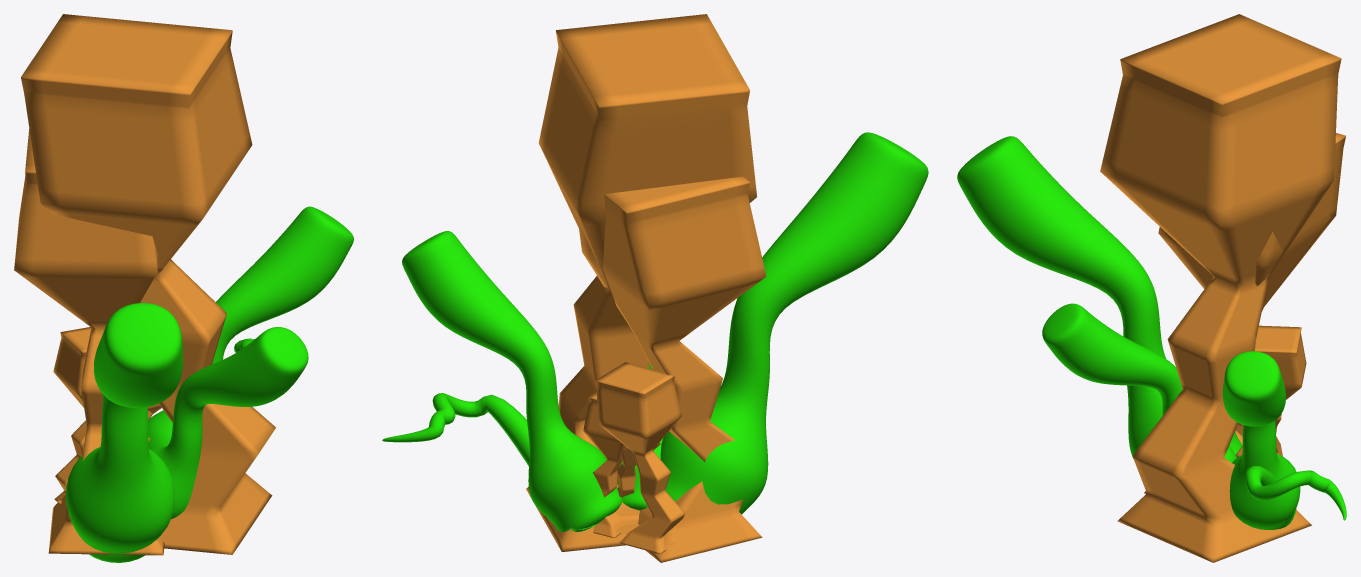
The model's file is Floor_Platforms_002.fbx.
The picture shows the model from 3 angles, left to right: view 1: azimuth 30°, elevation 25°; view 2: azimuth 150°, elevation 25°; view 3: azimuth 270°, elevation 25°; orthographic projection. The views are drawn at different scales.
Visible parts, largest first — view 1: Floor.Platforms.002|cliff.001|Dupli|2, Floor.Platforms.002|cliff|Dupli|1, Floor.Platforms.002|cliff.001|Dupli|3, Floor.Platforms.002|cliff|Dupli|7, Floor.Platforms.002|cliff|Dupli|4, Floor.Platforms.002|cliff.001|Dupli|9; view 2: Floor.Platforms.002|cliff.001|Dupli|2, Floor.Platforms.002|cliff.001|Dupli|3, Floor.Platforms.002|cliff|Dupli|1, Floor.Platforms.002|cliff|Dupli|7, Floor.Platforms.002|cliff.001|Dupli|9, Floor.Platforms.002|BezierCurve.Trunk.002|Dupli|10, Floor.Platforms.002|cliff.002|Dupli|8, Floor.Platforms.002|cliff.002|Dupli|5; view 3: Floor.Platforms.002|cliff.001|Dupli|2, Floor.Platforms.002|cliff|Dupli|1, Floor.Platforms.002|cliff|Dupli|7, Floor.Platforms.002|cliff|Dupli|4, Floor.Platforms.002|cliff.001|Dupli|3, Floor.Platforms.002|cliff.001|Dupli|9, Floor.Platforms.002|BezierCurve.Trunk.002|Dupli|10.
Boxes of the visible parts, x1=… form: Floor.Platforms.002|cliff.001|Dupli|2: x1=21, y1=14, x2=275, y2=554; Floor.Platforms.002|cliff|Dupli|1: x1=66, y1=303, x2=182, y2=562; Floor.Platforms.002|cliff.001|Dupli|3: x1=14, y1=129, x2=164, y2=555; Floor.Platforms.002|cliff|Dupli|7: x1=148, y1=206, x2=353, y2=449; Floor.Platforms.002|cliff|Dupli|4: x1=151, y1=327, x2=308, y2=518; Floor.Platforms.002|cliff.001|Dupli|9: x1=53, y1=327, x2=91, y2=502; Floor.Platforms.002|cliff.001|Dupli|2: x1=526, y1=14, x2=756, y2=551; Floor.Platforms.002|cliff.001|Dupli|3: x1=578, y1=176, x2=766, y2=562; Floor.Platforms.002|cliff|Dupli|1: x1=660, y1=132, x2=928, y2=514; Floor.Platforms.002|cliff|Dupli|7: x1=402, y1=231, x2=622, y2=531; Floor.Platforms.002|cliff.001|Dupli|9: x1=595, y1=362, x2=685, y2=553; Floor.Platforms.002|BezierCurve.Trunk.002|Dupli|10: x1=382, y1=393, x2=596, y2=530; Floor.Platforms.002|cliff.002|Dupli|8: x1=583, y1=392, x2=624, y2=538; Floor.Platforms.002|cliff.002|Dupli|5: x1=617, y1=442, x2=660, y2=524; Floor.Platforms.002|cliff.001|Dupli|2: x1=1100, y1=14, x2=1341, y2=562; Floor.Platforms.002|cliff|Dupli|1: x1=957, y1=136, x2=1242, y2=458; Floor.Platforms.002|cliff|Dupli|7: x1=1222, y1=351, x2=1300, y2=529; Floor.Platforms.002|cliff|Dupli|4: x1=1042, y1=303, x2=1236, y2=462; Floor.Platforms.002|cliff.001|Dupli|3: x1=1144, y1=133, x2=1345, y2=493; Floor.Platforms.002|cliff.001|Dupli|9: x1=1255, y1=325, x2=1306, y2=456; Floor.Platforms.002|BezierCurve.Trunk.002|Dupli|10: x1=1245, y1=466, x2=1346, y2=520.
Size of the model in its own units: 2340 by 2864 by 2212.
